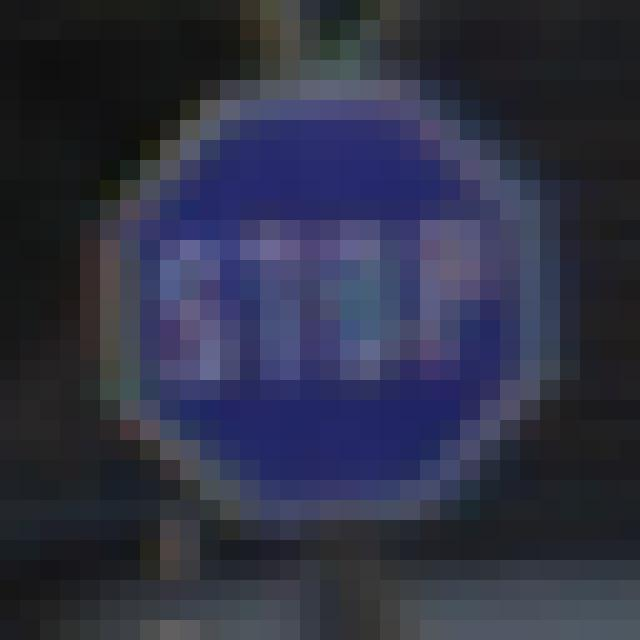STOP: (94, 104, 546, 506)
